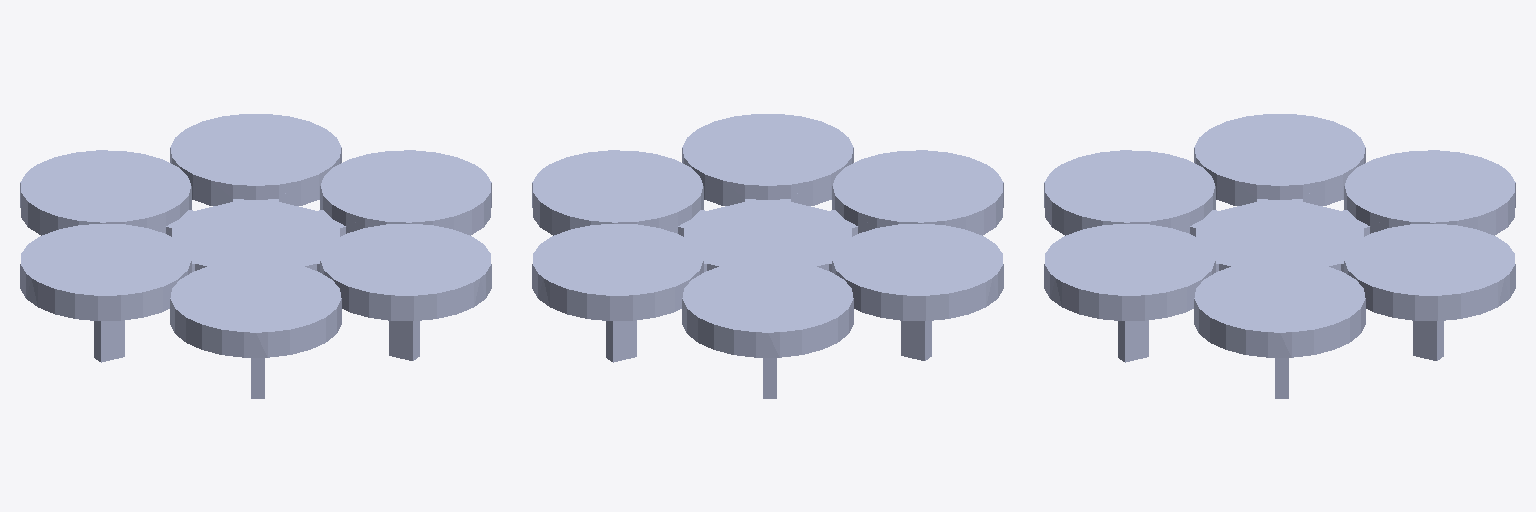
robot.urdf — iarc_urdf:
<robot
  name="iarc_urdf">
  <link
    name="fcu">
    <inertial>
      <origin
        xyz="3.02684736132543E-18 6.25357962316157E-17 -0.0231249405777104"
        rpy="0 0 0" />
      <mass
        value="22.8976176490115" />
      <inertia
        ixx="0"
        ixy="0"
        ixz="0"
        iyy="0"
        iyz="0"
        izz="0" />
    </inertial>
    <visual>
      <origin
        xyz="0 0 0"
        rpy="0 0 0" />
      <geometry>
        <mesh
          filename="package://iarc_urdf/meshes/fcu.STL" />
      </geometry>
      <material
        name="">
        <color
          rgba="0.792156862745098 0.819607843137255 0.933333333333333 1" />
      </material>
    </visual>
    <collision>
      <origin
        xyz="0 0 0"
        rpy="0 0 0" />
      <geometry>
        <mesh
          filename="package://iarc_urdf/meshes/fcu.STL" />
      </geometry>
    </collision>
  </link>
  <link
    name="base_link">
    <inertial>
      <origin
        xyz="5.09293762121163E-18 -7.93302489973188E-17 0.13441505942229"
        rpy="0 0 0" />
      <mass
        value="22.8976176490115" />
      <inertia
        ixx="0"
        ixy="0"
        ixz="0"
        iyy="0"
        iyz="0"
        izz="0" />
    </inertial>
    <visual>
      <origin
        xyz="0 0 0"
        rpy="0 0 0" />
      <geometry>
        <mesh
          filename="package://iarc_urdf/meshes/base_link.STL" />
      </geometry>
      <material
        name="">
        <color
          rgba="0.792156862745098 0.819607843137255 0.933333333333333 1" />
      </material>
    </visual>
    <collision>
      <origin
        xyz="0 0 0"
        rpy="0 0 0" />
      <geometry>
        <mesh
          filename="package://iarc_urdf/meshes/base_link.STL" />
      </geometry>
    </collision>
  </link>
  <joint
    name="base_joint"
    type="fixed">
    <origin
      xyz="0 0 -0.15754"
      rpy="0 -1.09476442525376E-47 -3.14159265358979" />
    <parent
      link="fcu" />
    <child
      link="base_link" />
    <axis
      xyz="0 0 0" />
  </joint>
  <link
    name="L_US_1">
    <inertial>
      <origin
        xyz="6.67980844352989E-08 -7.41458737274492E-06 -0.00840646225316072"
        rpy="0 0 0" />
      <mass
        value="0.00361575702705974" />
      <inertia
        ixx="0"
        ixy="0"
        ixz="0"
        iyy="0"
        iyz="0"
        izz="0" />
    </inertial>
    <visual>
      <origin
        xyz="0 0 0"
        rpy="0 0 0" />
      <geometry>
        <mesh
          filename="package://iarc_urdf/meshes/L_US_1.STL" />
      </geometry>
      <material
        name="">
        <color
          rgba="0.792156862745098 0.819607843137255 0.933333333333333 1" />
      </material>
    </visual>
    <collision>
      <origin
        xyz="0 0 0"
        rpy="0 0 0" />
      <geometry>
        <mesh
          filename="package://iarc_urdf/meshes/L_US_1.STL" />
      </geometry>
    </collision>
  </link>
  <joint
    name="J_US_1"
    type="fixed">
    <origin
      xyz="-0.299742692222185 0.023445 0.105130977459881"
      rpy="1.83259571459404 2.22044604925031E-16 -1.5707963267949" />
    <parent
      link="base_link" />
    <child
      link="L_US_1" />
    <axis
      xyz="0 0 0" />
  </joint>
  <link
    name="L_US_2">
    <inertial>
      <origin
        xyz="6.67980844248905E-08 -7.41458737282819E-06 -0.00840646225316083"
        rpy="0 0 0" />
      <mass
        value="0.00361575702705974" />
      <inertia
        ixx="0"
        ixy="0"
        ixz="0"
        iyy="0"
        iyz="0"
        izz="0" />
    </inertial>
    <visual>
      <origin
        xyz="0 0 0"
        rpy="0 0 0" />
      <geometry>
        <mesh
          filename="package://iarc_urdf/meshes/L_US_2.STL" />
      </geometry>
      <material
        name="">
        <color
          rgba="0.792156862745098 0.819607843137255 0.933333333333333 1" />
      </material>
    </visual>
    <collision>
      <origin
        xyz="0 0 0"
        rpy="0 0 0" />
      <geometry>
        <mesh
          filename="package://iarc_urdf/meshes/L_US_2.STL" />
      </geometry>
    </collision>
  </link>
  <joint
    name="J_US_2"
    type="fixed">
    <origin
      xyz="-0.170175311702819 -0.247862286063153 0.105130977459881"
      rpy="1.83259571459404 2.43359476804514E-16 -0.523598775598299" />
    <parent
      link="base_link" />
    <child
      link="L_US_2" />
    <axis
      xyz="0 0 0" />
  </joint>
  <link
    name="L_US_3">
    <inertial>
      <origin
        xyz="6.67980844387683E-08 -7.41458737274492E-06 -0.00840646225316094"
        rpy="0 0 0" />
      <mass
        value="0.00361575702705973" />
      <inertia
        ixx="0"
        ixy="0"
        ixz="0"
        iyy="0"
        iyz="0"
        izz="0" />
    </inertial>
    <visual>
      <origin
        xyz="0 0 0"
        rpy="0 0 0" />
      <geometry>
        <mesh
          filename="package://iarc_urdf/meshes/L_US_3.STL" />
      </geometry>
      <material
        name="">
        <color
          rgba="0.792156862745098 0.819607843137255 0.933333333333333 1" />
      </material>
    </visual>
    <collision>
      <origin
        xyz="0 0 0"
        rpy="0 0 0" />
      <geometry>
        <mesh
          filename="package://iarc_urdf/meshes/L_US_3.STL" />
      </geometry>
    </collision>
  </link>
  <joint
    name="J_US_3"
    type="fixed">
    <origin
      xyz="0.129567380519366 -0.271307286063153 0.105130977459881"
      rpy="1.83259571459404 -3.25629823315878E-16 0.523598775598298" />
    <parent
      link="base_link" />
    <child
      link="L_US_3" />
    <axis
      xyz="0 0 0" />
  </joint>
  <link
    name="L_US_4">
    <inertial>
      <origin
        xyz="6.67980844352989E-08 -7.41458737271716E-06 -0.00840646225316083"
        rpy="0 0 0" />
      <mass
        value="0.00361575702705974" />
      <inertia
        ixx="0"
        ixy="0"
        ixz="0"
        iyy="0"
        iyz="0"
        izz="0" />
    </inertial>
    <visual>
      <origin
        xyz="0 0 0"
        rpy="0 0 0" />
      <geometry>
        <mesh
          filename="package://iarc_urdf/meshes/L_US_4.STL" />
      </geometry>
      <material
        name="">
        <color
          rgba="0.792156862745098 0.819607843137255 0.933333333333333 1" />
      </material>
    </visual>
    <collision>
      <origin
        xyz="0 0 0"
        rpy="0 0 0" />
      <geometry>
        <mesh
          filename="package://iarc_urdf/meshes/L_US_4.STL" />
      </geometry>
    </collision>
  </link>
  <joint
    name="J_US_4"
    type="fixed">
    <origin
      xyz="0.299742692222185 -0.023445 0.105130977459881"
      rpy="1.83259571459404 0 1.5707963267949" />
    <parent
      link="base_link" />
    <child
      link="L_US_4" />
    <axis
      xyz="0 0 0" />
  </joint>
  <link
    name="L_US_5">
    <inertial>
      <origin
        xyz="6.67980844110128E-08 -7.41458737280043E-06 -0.00840646225316088"
        rpy="0 0 0" />
      <mass
        value="0.00361575702705973" />
      <inertia
        ixx="0"
        ixy="0"
        ixz="0"
        iyy="0"
        iyz="0"
        izz="0" />
    </inertial>
    <visual>
      <origin
        xyz="0 0 0"
        rpy="0 0 0" />
      <geometry>
        <mesh
          filename="package://iarc_urdf/meshes/L_US_5.STL" />
      </geometry>
      <material
        name="">
        <color
          rgba="0.792156862745098 0.819607843137255 0.933333333333333 1" />
      </material>
    </visual>
    <collision>
      <origin
        xyz="0 0 0"
        rpy="0 0 0" />
      <geometry>
        <mesh
          filename="package://iarc_urdf/meshes/L_US_5.STL" />
      </geometry>
    </collision>
  </link>
  <joint
    name="J_US_5"
    type="fixed">
    <origin
      xyz="0.170175311702818 0.247862286063152 0.105130977459881"
      rpy="1.83259571459404 -2.43359476804514E-16 2.61799387799149" />
    <parent
      link="base_link" />
    <child
      link="L_US_5" />
    <axis
      xyz="0 0 0" />
  </joint>
  <link
    name="L_US_6">
    <inertial>
      <origin
        xyz="6.67980844387683E-08 -7.41458737277267E-06 -0.00840646225316088"
        rpy="0 0 0" />
      <mass
        value="0.00361575702705974" />
      <inertia
        ixx="0"
        ixy="0"
        ixz="0"
        iyy="0"
        iyz="0"
        izz="0" />
    </inertial>
    <visual>
      <origin
        xyz="0 0 0"
        rpy="0 0 0" />
      <geometry>
        <mesh
          filename="package://iarc_urdf/meshes/L_US_6.STL" />
      </geometry>
      <material
        name="">
        <color
          rgba="0.792156862745098 0.819607843137255 0.933333333333333 1" />
      </material>
    </visual>
    <collision>
      <origin
        xyz="0 0 0"
        rpy="0 0 0" />
      <geometry>
        <mesh
          filename="package://iarc_urdf/meshes/L_US_6.STL" />
      </geometry>
    </collision>
  </link>
  <joint
    name="J_US_6"
    type="fixed">
    <origin
      xyz="-0.129567380519366 0.271307286063153 0.105130977459881"
      rpy="1.83259571459404 2.28485308661177E-16 -2.61799387799149" />
    <parent
      link="base_link" />
    <child
      link="L_US_6" />
    <axis
      xyz="0 0 0" />
  </joint>
  <link
    name="L_CAM">
    <inertial>
      <origin
        xyz="-4.48707976235626E-17 -1.13709443398529E-17 -0.0616061378915807"
        rpy="0 0 0" />
      <mass
        value="0.043088537724238" />
      <inertia
        ixx="0"
        ixy="0"
        ixz="0"
        iyy="0"
        iyz="0"
        izz="0" />
    </inertial>
    <visual>
      <origin
        xyz="0 0 0"
        rpy="0 0 0" />
      <geometry>
        <mesh
          filename="package://iarc_urdf/meshes/L_CAM.STL" />
      </geometry>
      <material
        name="">
        <color
          rgba="0.792156862745098 0.819607843137255 0.933333333333333 1" />
      </material>
    </visual>
    <collision>
      <origin
        xyz="0 0 0"
        rpy="0 0 0" />
      <geometry>
        <mesh
          filename="package://iarc_urdf/meshes/L_CAM.STL" />
      </geometry>
    </collision>
  </link>
  <joint
    name="J_CAM"
    type="fixed">
    <origin
      xyz="0 0 0.14588"
      rpy="2.2204E-16 -5.5511E-17 -1.6653E-16" />
    <parent
      link="base_link" />
    <child
      link="L_CAM" />
    <axis
      xyz="0 0 0" />
  </joint>
</robot>

--- Render facts (derived) ---
The picture shows the robot from 3 angles, left to right: view 1: azimuth 30°, elevation 25°; view 2: azimuth 150°, elevation 25°; view 3: azimuth 270°, elevation 25°; orthographic projection.
Model iarc_urdf with 9 links and 8 joints (8 fixed), rooted at fcu, posed all joints at 0.
Links seen in each view (by area): view 1: fcu, base_link; view 2: fcu, base_link; view 3: fcu, base_link.
Link boxes in pixels (x1,y1,x2,y2): fcu: (20, 114, 491, 398); base_link: (21, 117, 491, 348); fcu: (532, 114, 1003, 398); base_link: (532, 115, 1002, 360); fcu: (1044, 114, 1515, 398); base_link: (1044, 115, 1515, 348).
Bounding box of the posed robot: 0.831 × 0.7547 × 0.1725 m (x, y, z).
9 mesh visuals loaded from 9 distinct referenced files (9 binary STL).